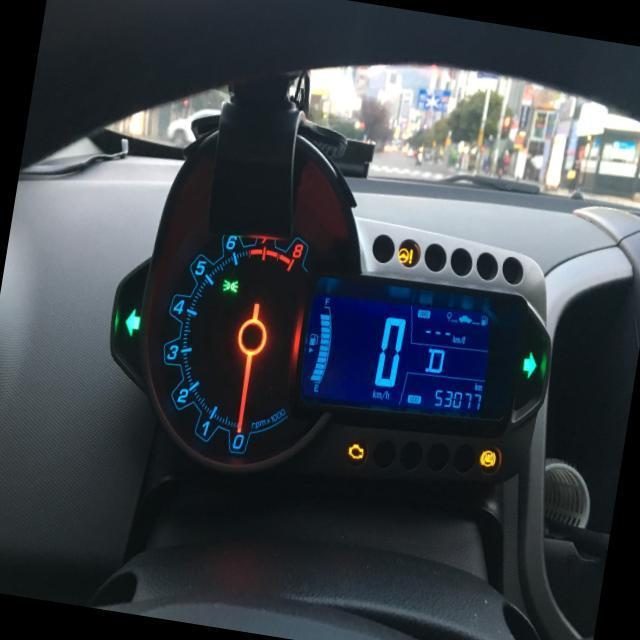SideLamp: (220, 276, 240, 294)
